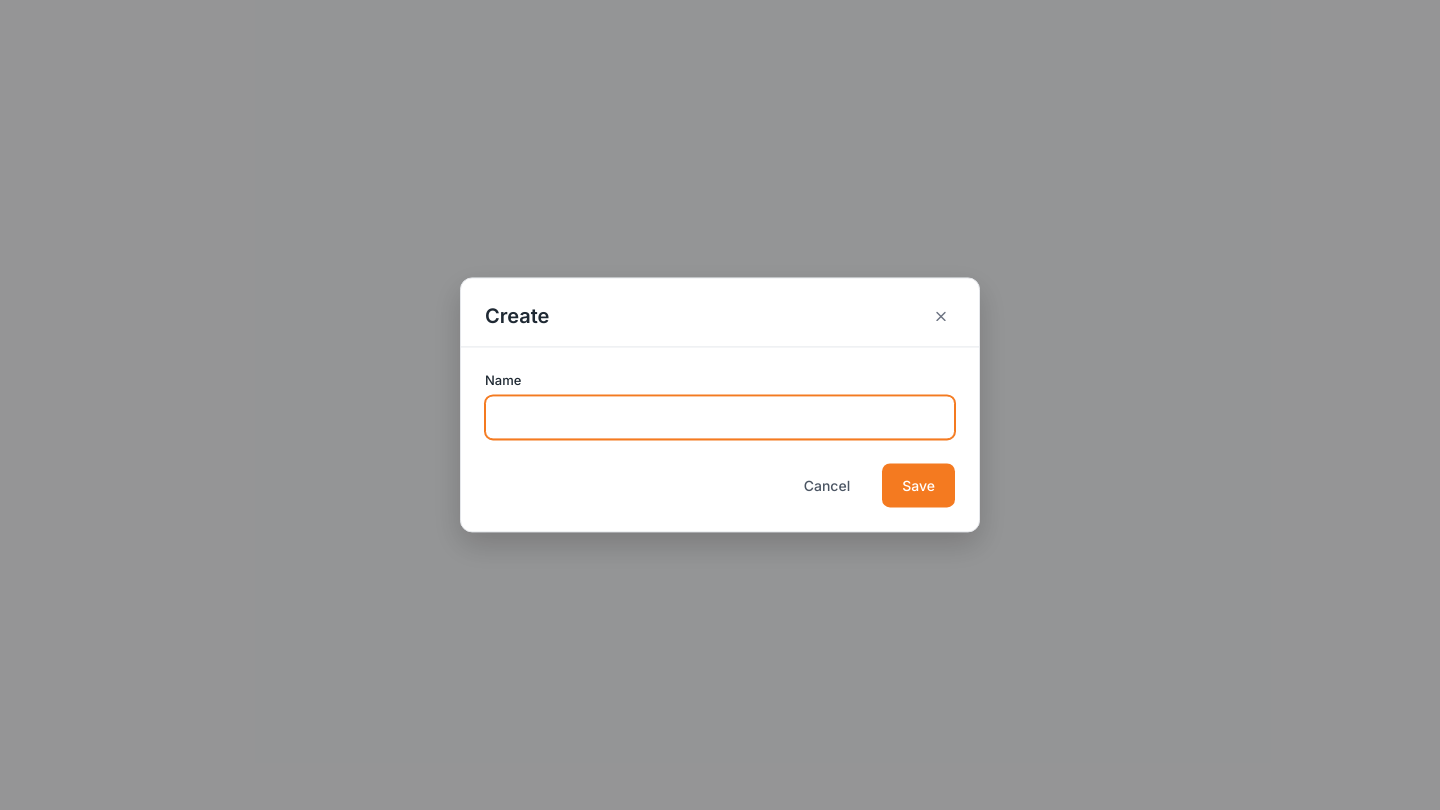
Test case: FormModal › unsaved changes guard › shows unsaved changes dialog when closing with dirty form
# Dirty the form by typing something
Type "dirty" into the field with test id "form-modal-field-name".
click(720, 418); type("dirty")  # box x1=485 y1=396 x2=955 y2=440
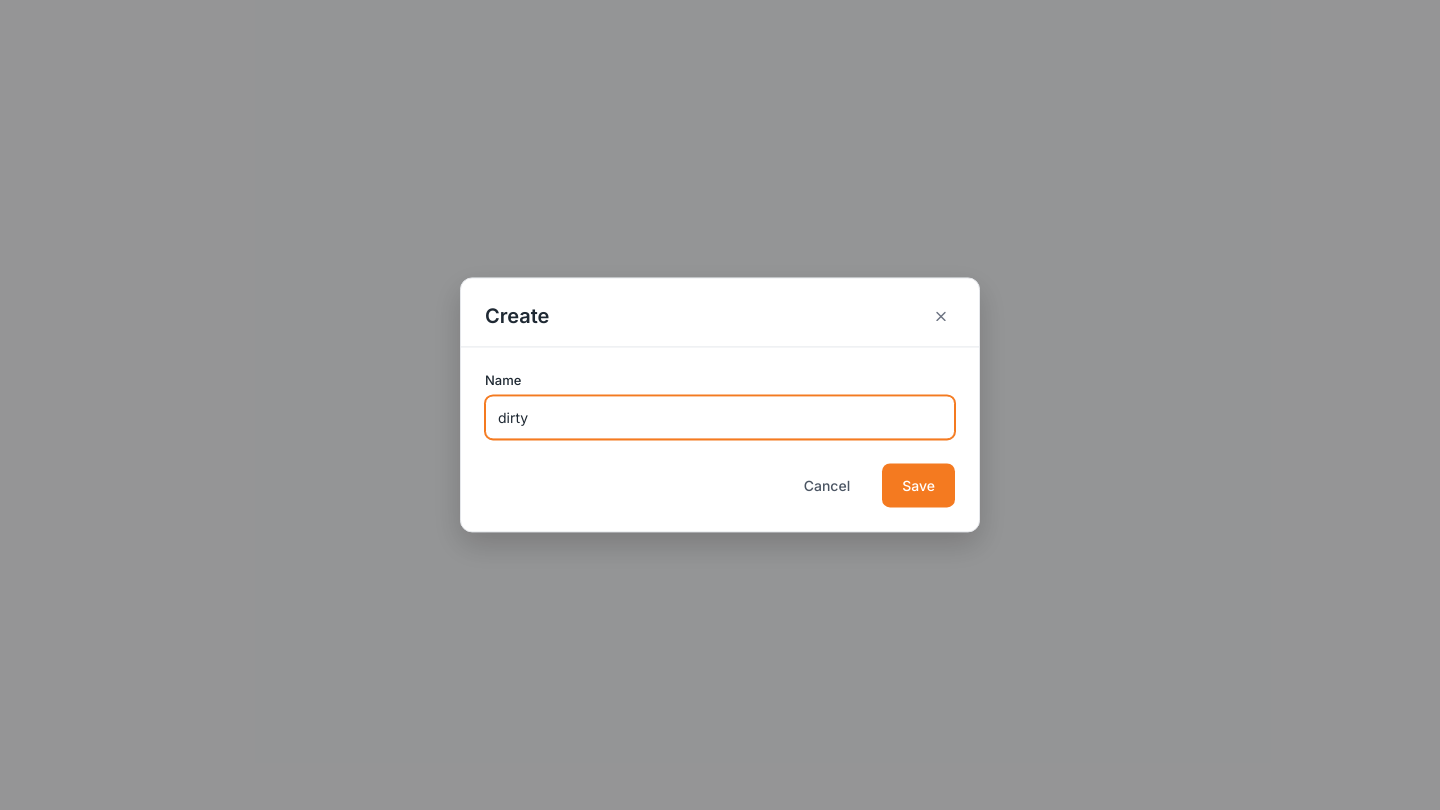
Click the button with test id "form-modal-close".
click(941, 316)  # box x1=927 y1=302 x2=955 y2=330
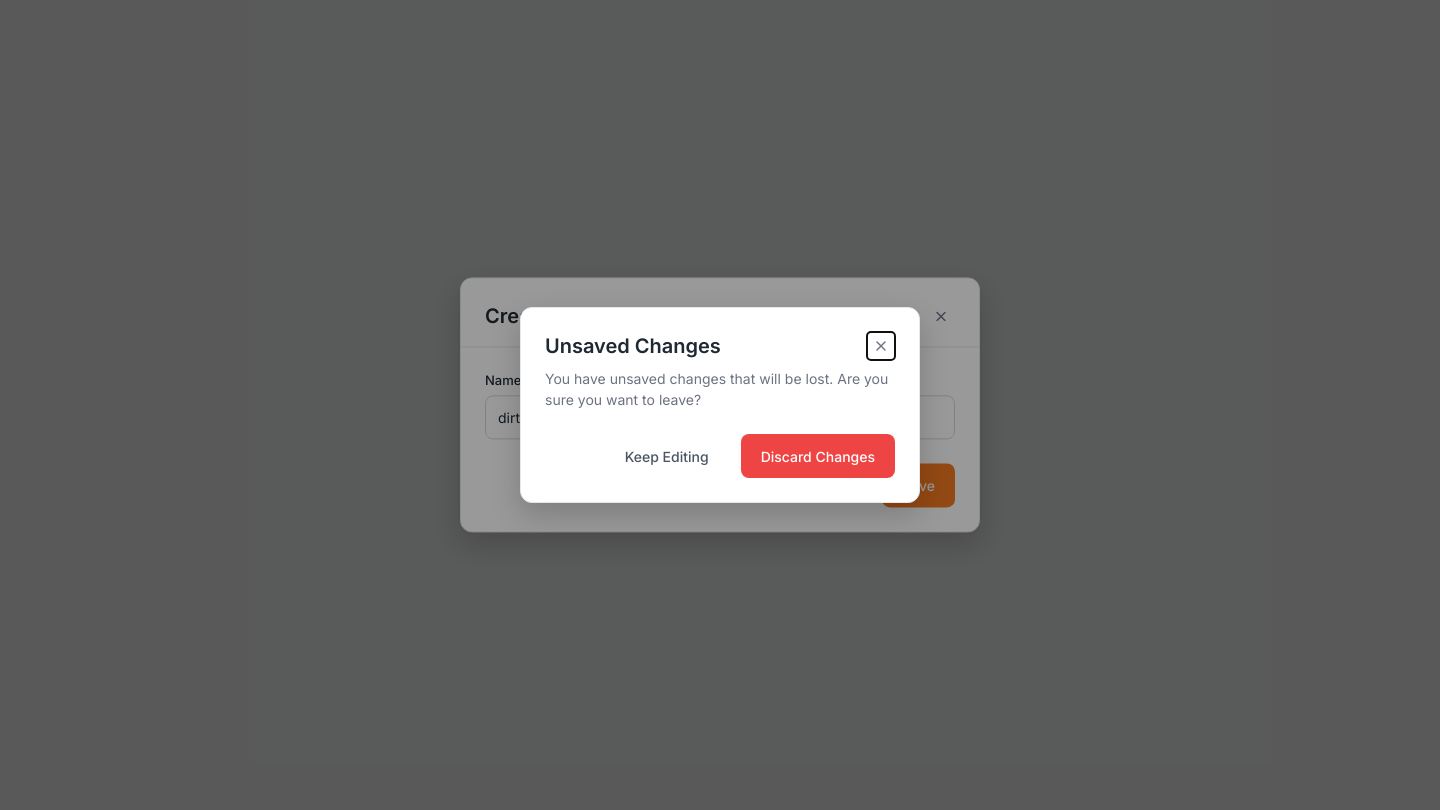
Expected: the heading "Unsaved Changes" is shown, x1=545 y1=332 x2=721 y2=360
